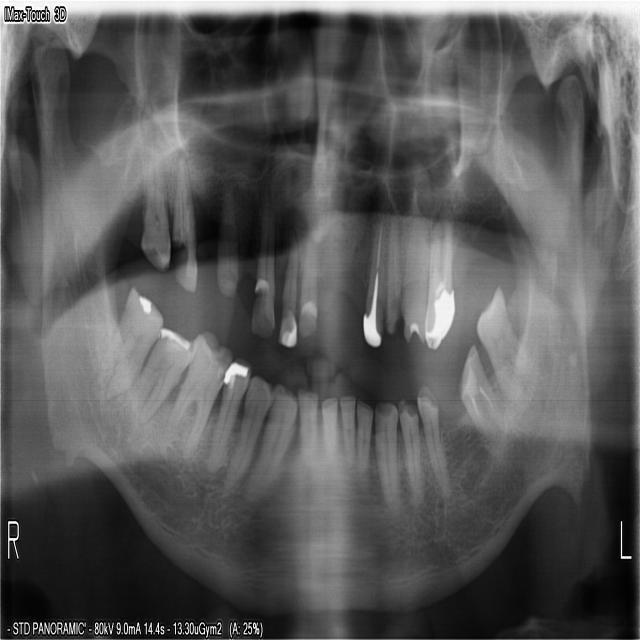LCD: (370, 392, 397, 521)
LID: (353, 393, 371, 499), (336, 387, 354, 491)
LPMD: (414, 378, 448, 503), (393, 390, 424, 518)
RCU: (239, 376, 296, 499)
RID: (294, 379, 316, 502), (318, 388, 337, 482)
RIU: (273, 220, 297, 347), (293, 215, 316, 340)
RMD: (154, 322, 235, 459), (88, 274, 164, 402), (125, 316, 193, 425)
RPMU: (216, 368, 275, 490), (200, 349, 250, 480)
